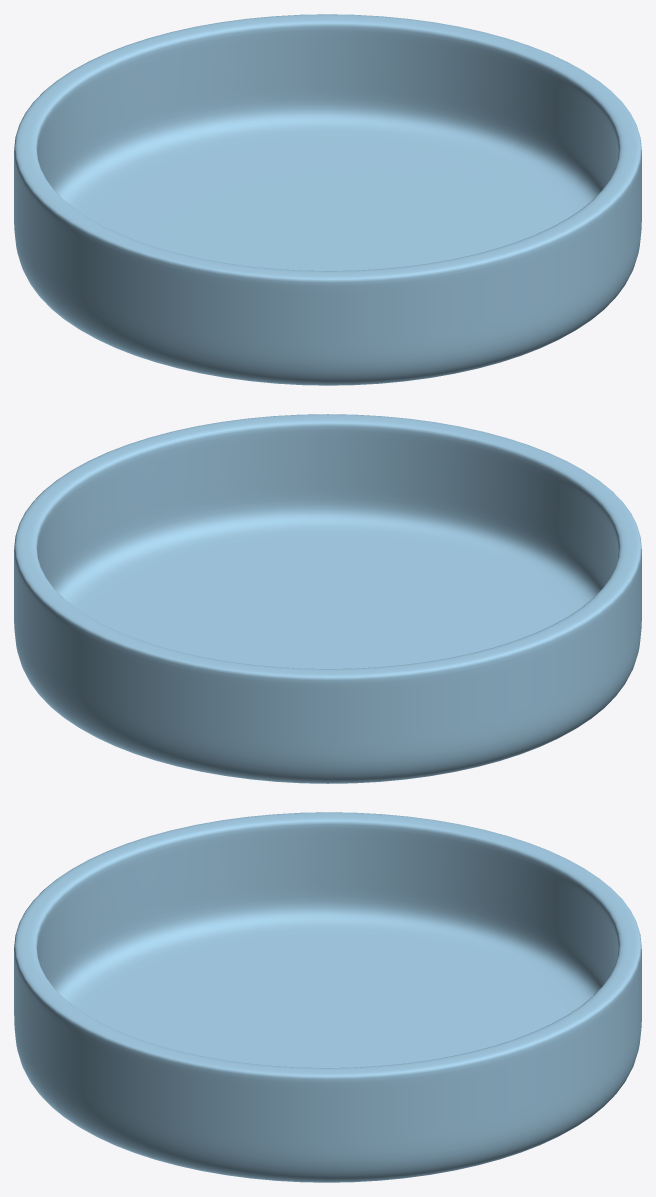
File: petri.fbx
The picture shows the model from 3 angles, top to bottom: view 1: azimuth 30°, elevation 25°; view 2: azimuth 150°, elevation 25°; view 3: azimuth 270°, elevation 25°; orthographic projection.
Parts seen in each view (by area): view 1: 17194_Petri_Dish_v1; view 2: 17194_Petri_Dish_v1; view 3: 17194_Petri_Dish_v1.
Boxes of the visible parts, left/top/right/bottom form: 17194_Petri_Dish_v1: left=14, top=14, right=641, bottom=385; 17194_Petri_Dish_v1: left=14, top=414, right=641, bottom=783; 17194_Petri_Dish_v1: left=14, top=812, right=641, bottom=1182.
Size of the model in its own units: 981 by 206 by 981.
